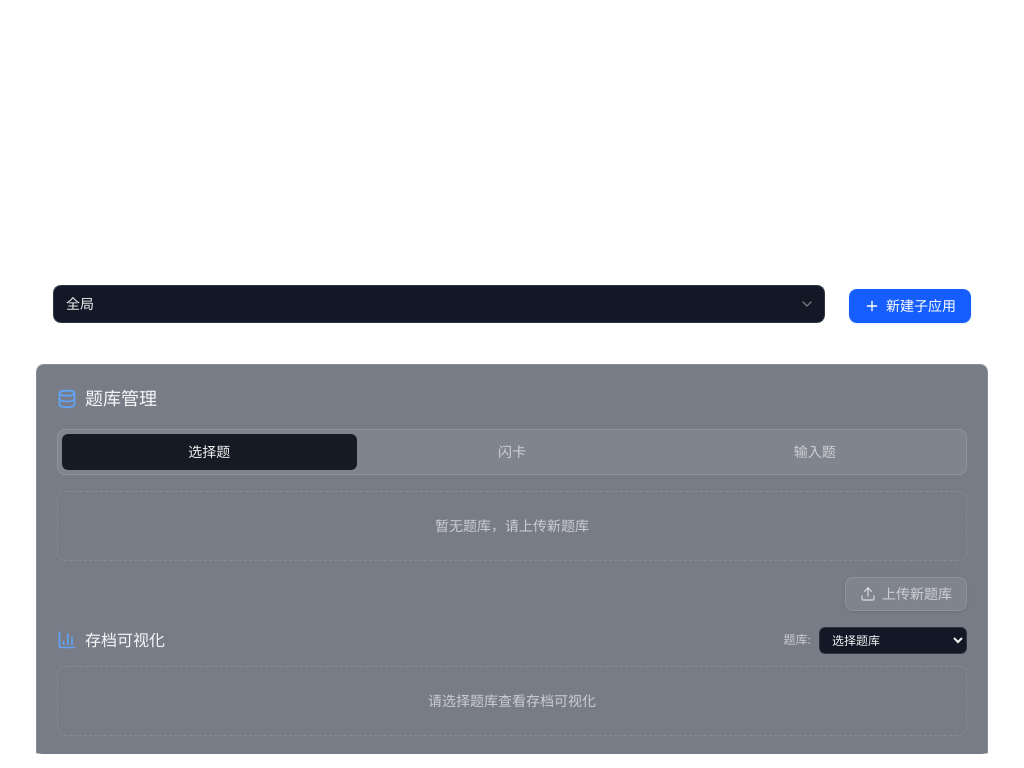
it: DeliberateWorkflow › calculates the accuracy trend from input snapshot answers
Select "408 输入题库 (3 题)" in the 2nd dropdown. click: (893, 640)
box: [819,627,967,654]
(page scrolled)
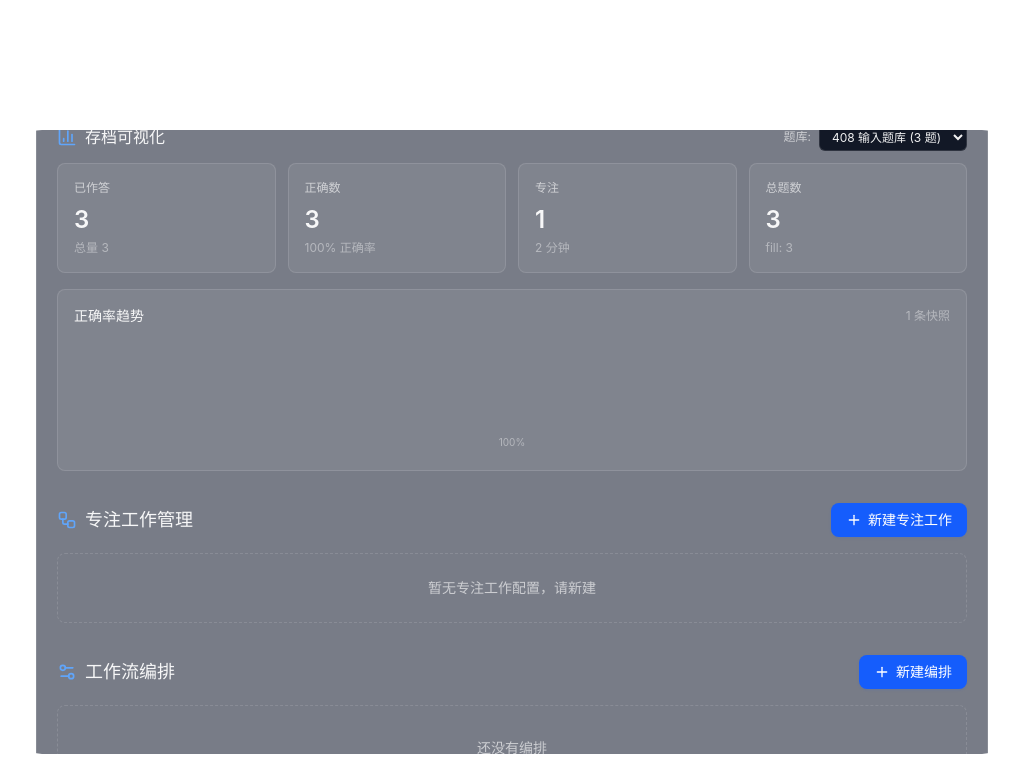
Expected: the text "100%" is shown, [499,434,525,450]
